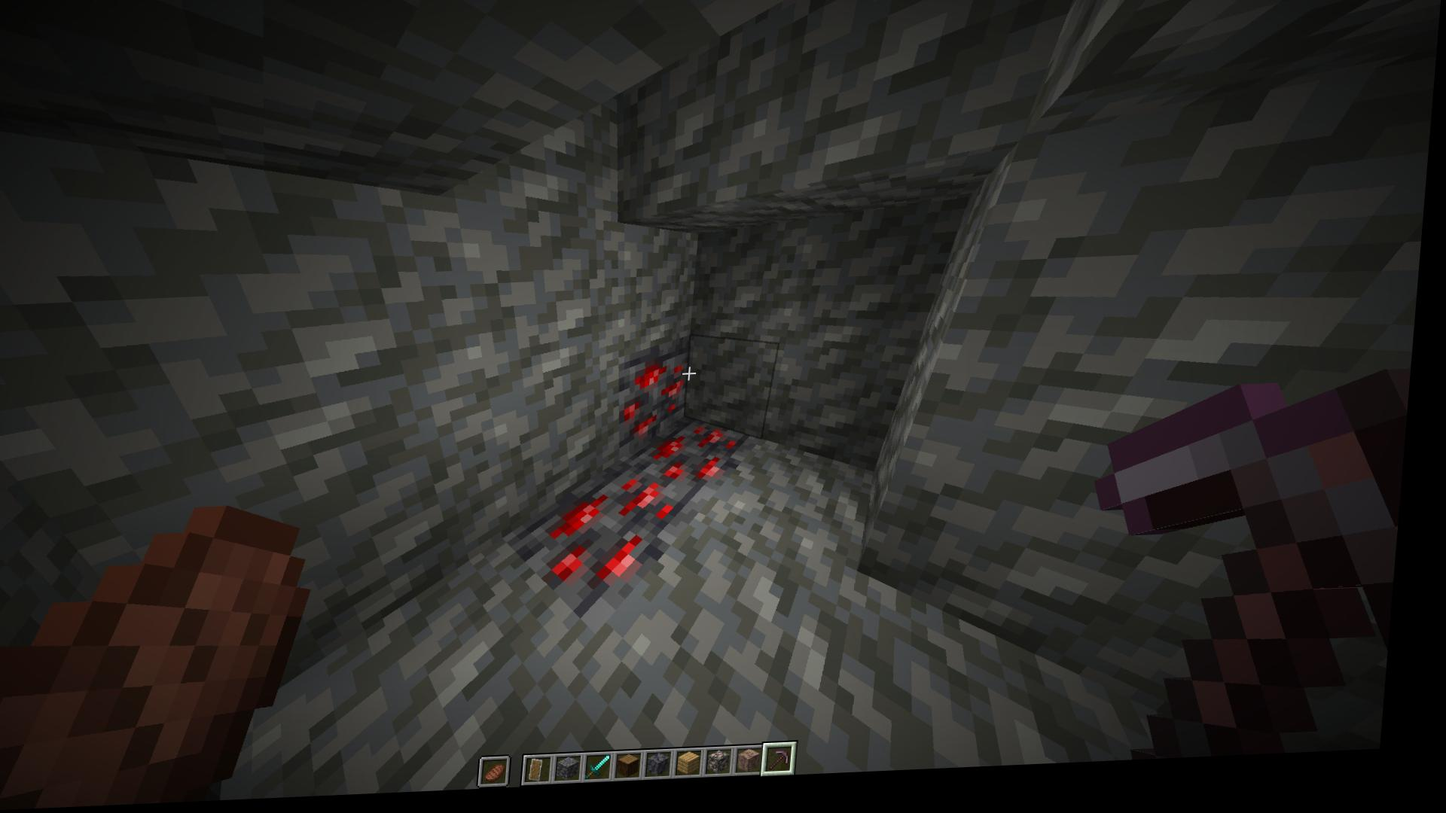redstone ore: (546, 476, 690, 616), (653, 424, 755, 500), (625, 356, 696, 447)
